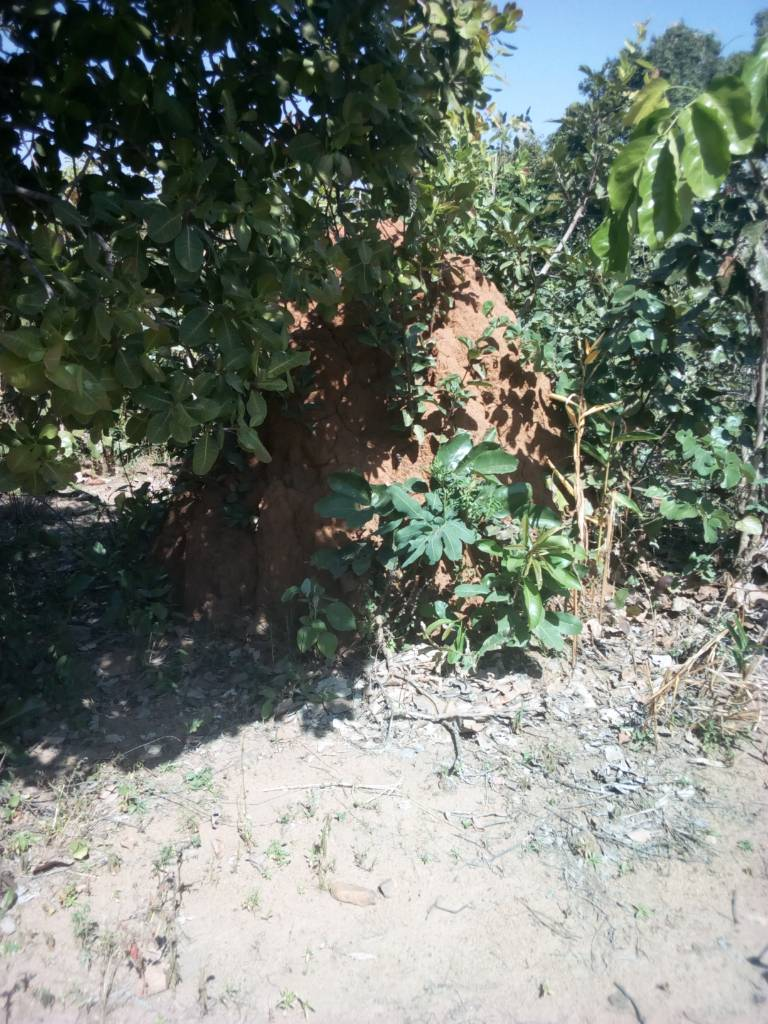Termites: (185, 510, 291, 611), (324, 377, 377, 460)
